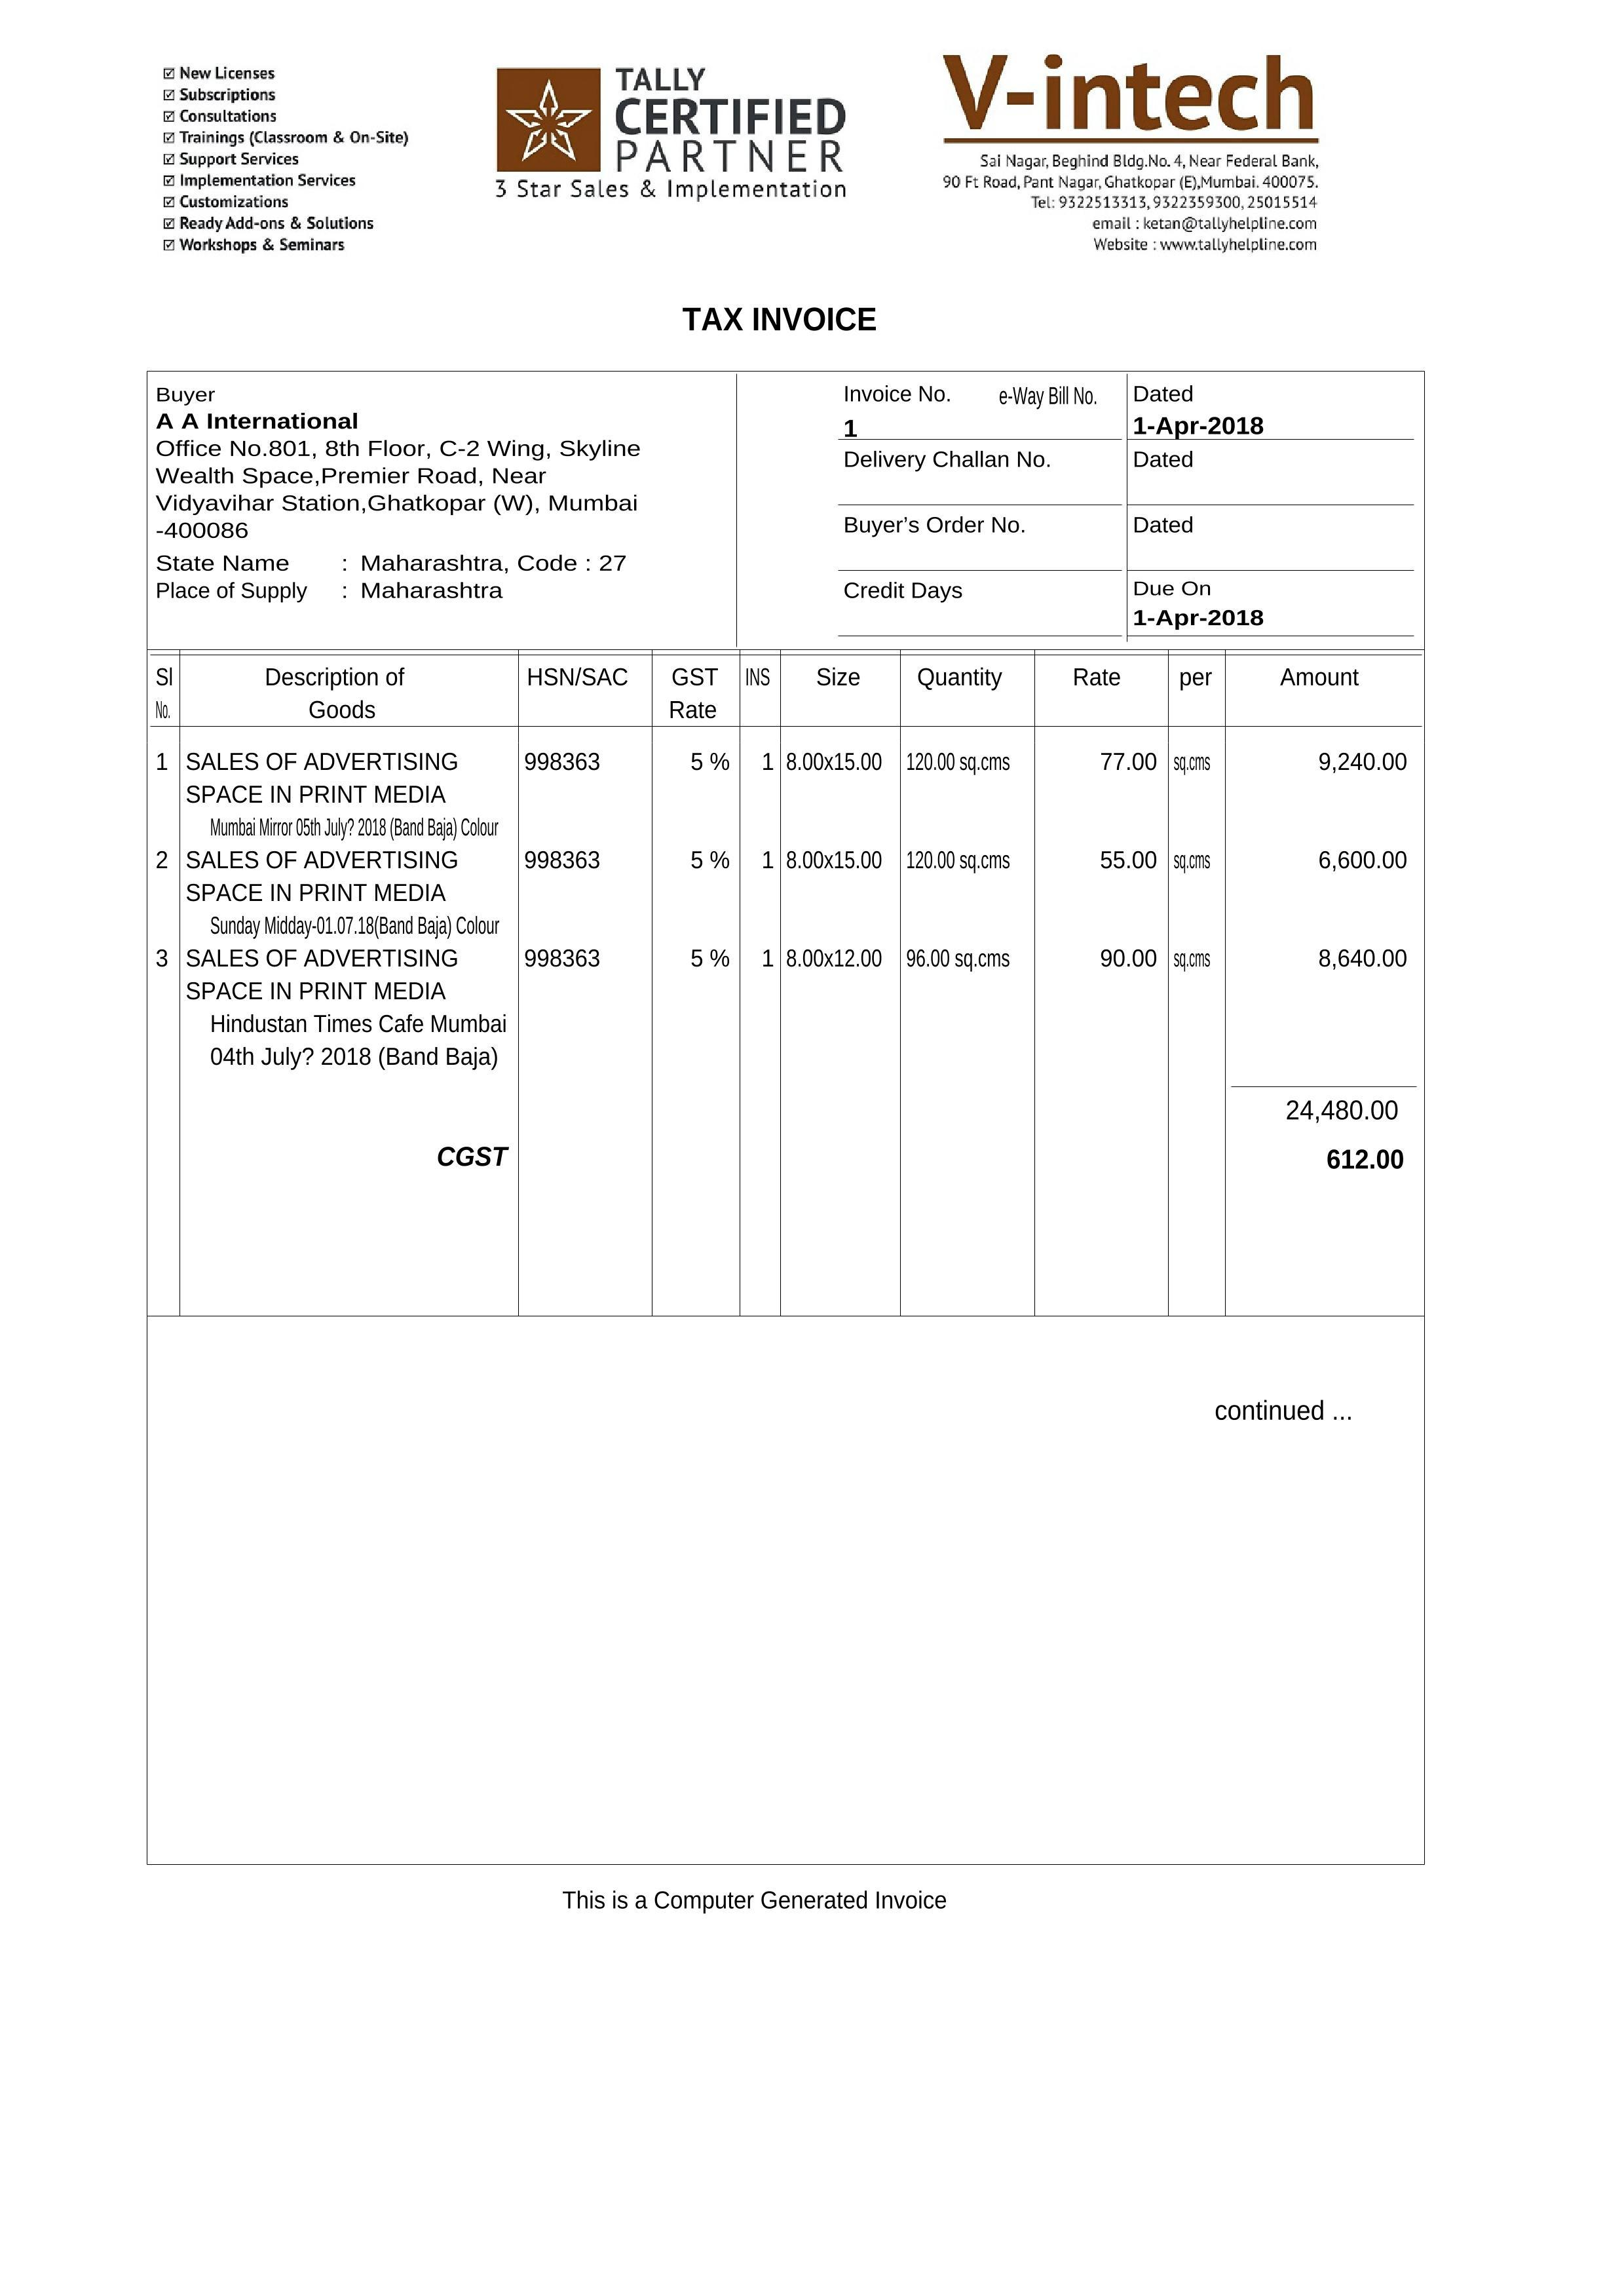InvoiceDate: (1130, 408, 1274, 448)
InvoiceNumber: (837, 406, 874, 440)
TotalAmount: (1274, 1090, 1413, 1129)
